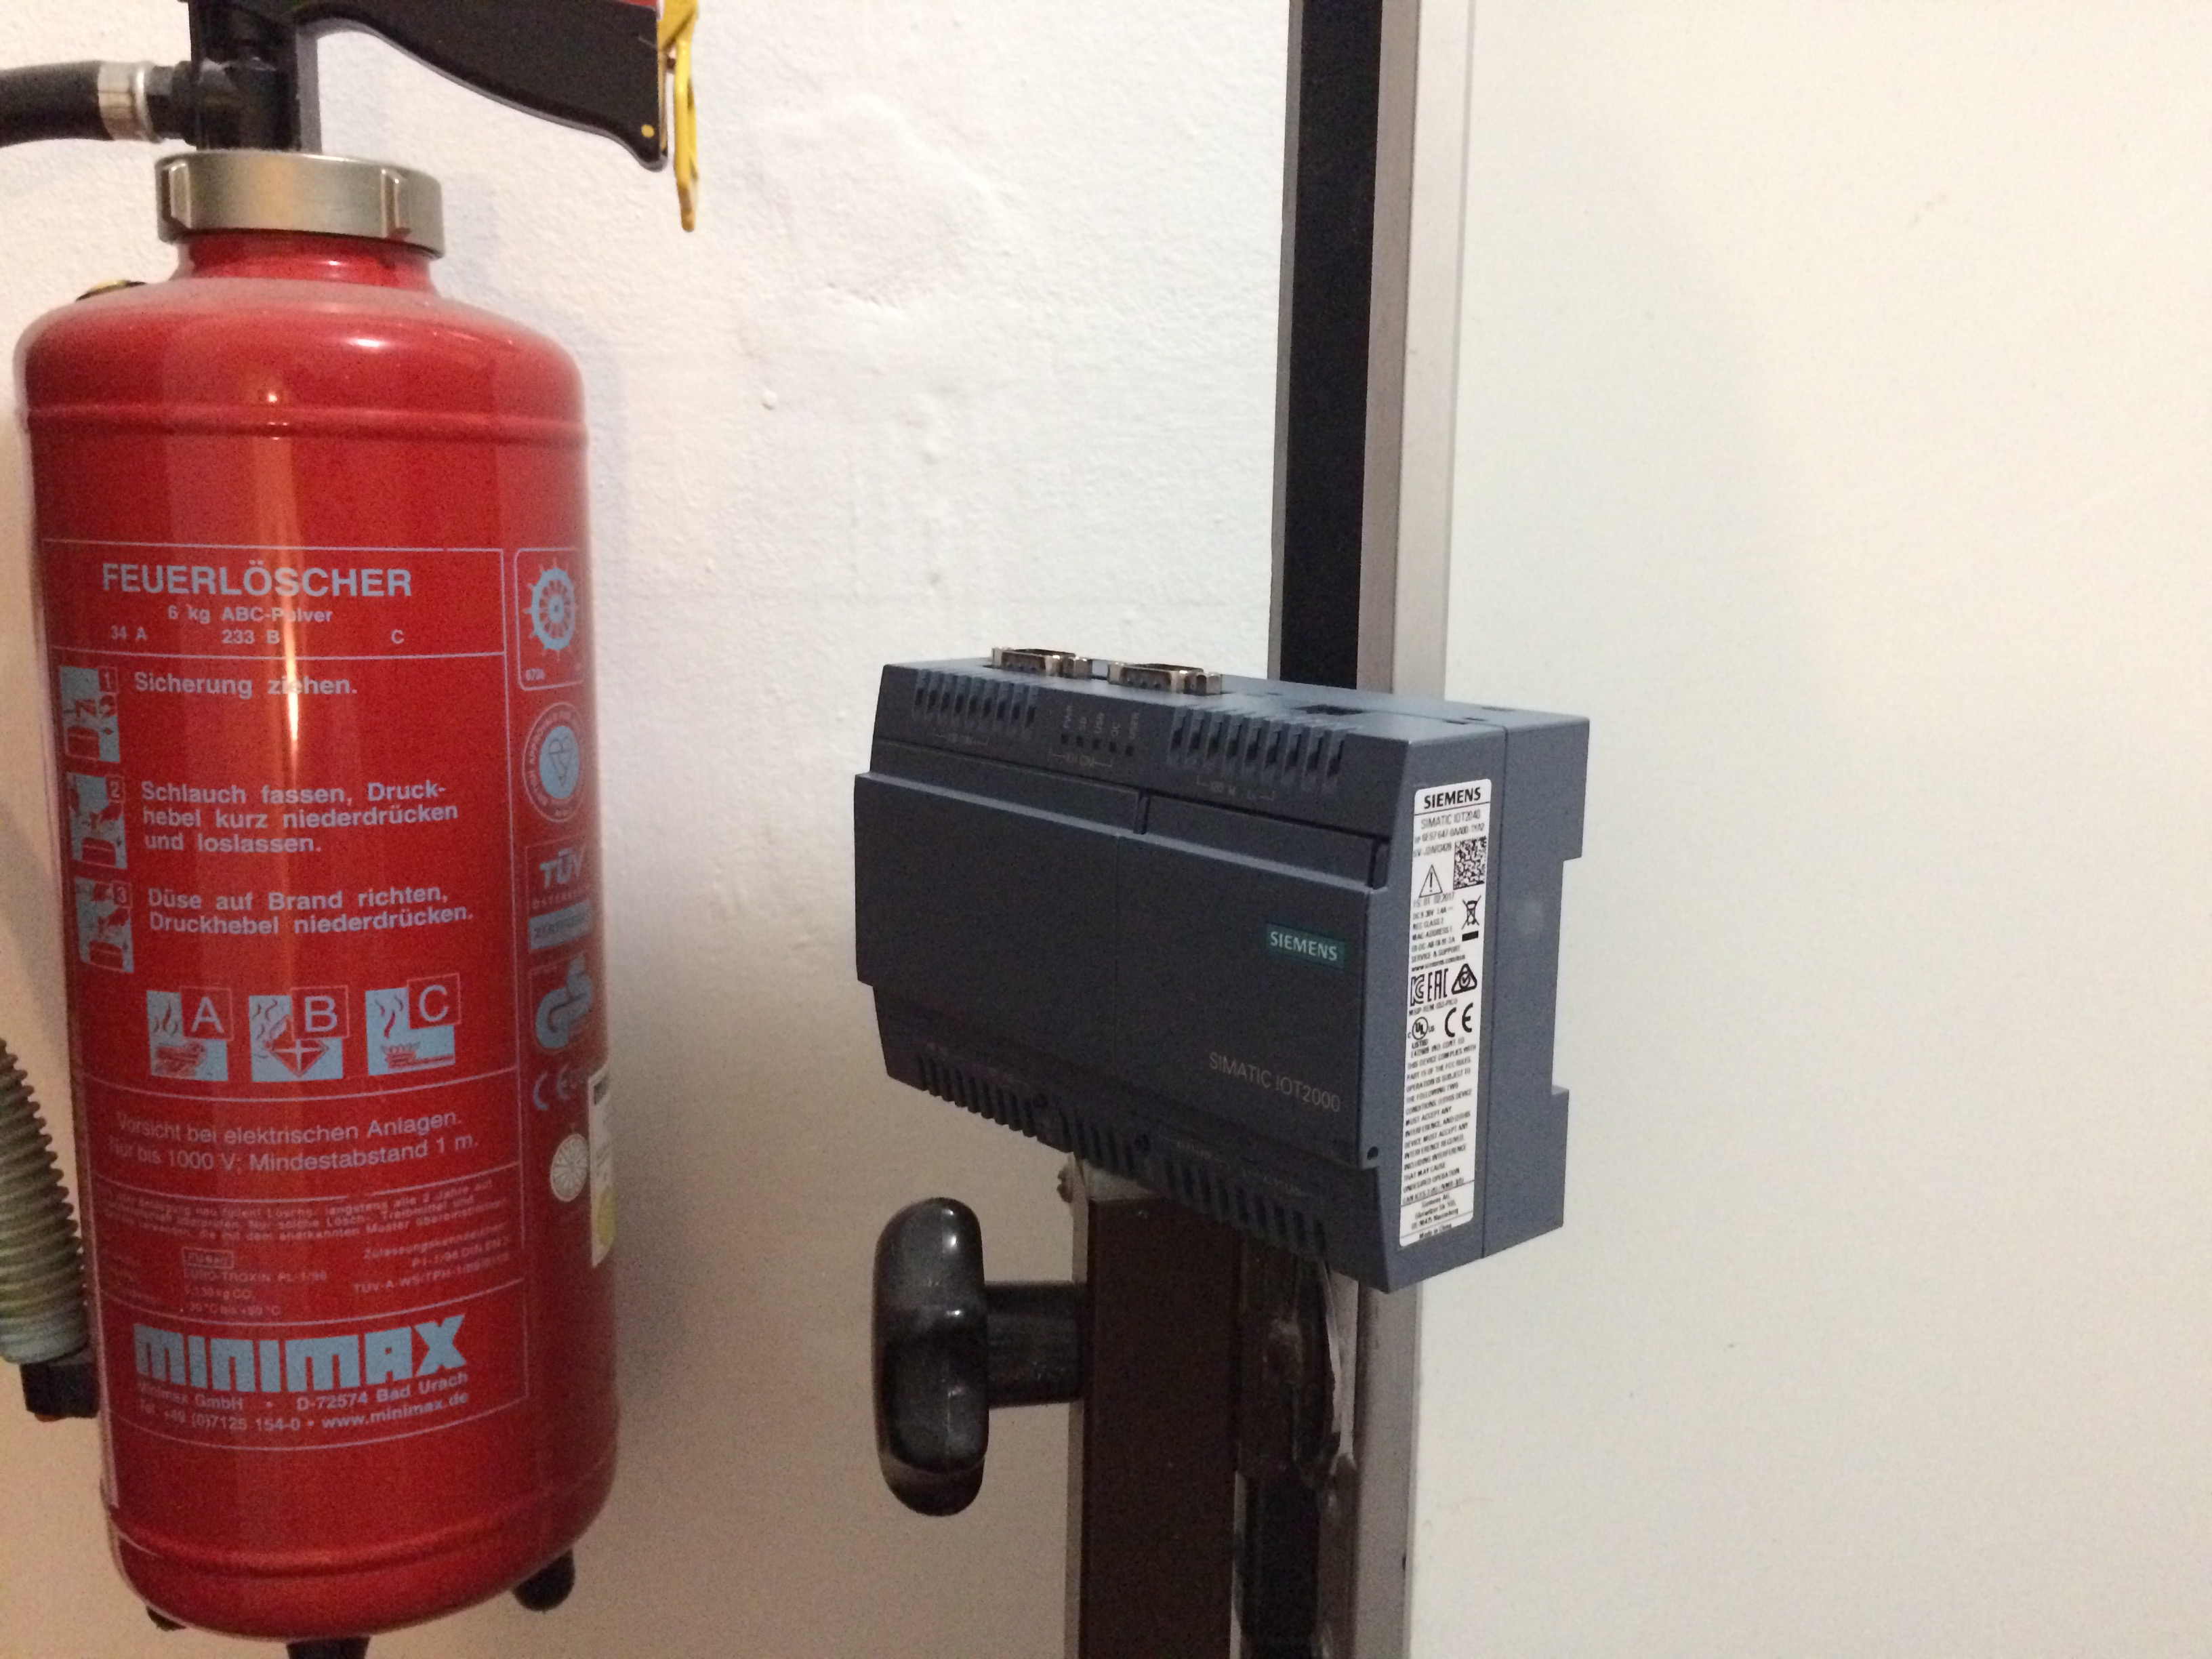iot2000: (846, 641, 1595, 1300)
